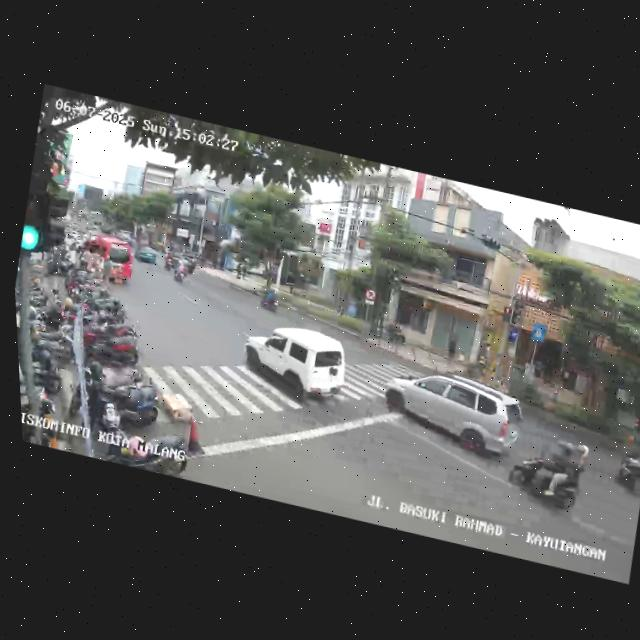car: (375, 360, 527, 469), (238, 315, 358, 420), (76, 230, 139, 290), (606, 442, 640, 502), (133, 243, 161, 267)
motorcycle: (503, 433, 593, 520), (259, 284, 283, 314), (170, 258, 190, 286)
